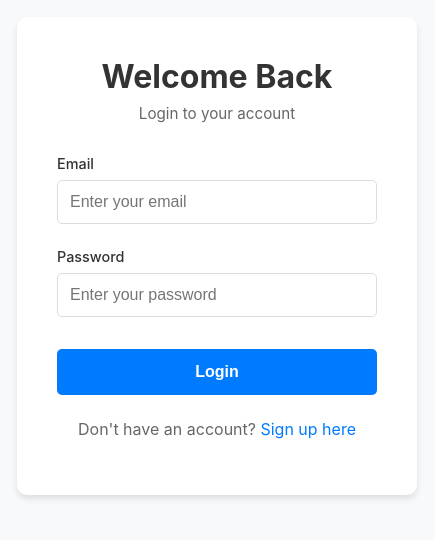
Test case: Login page › shows validation errors on empty submit (role=alert present)
Click the button "Login": [217, 372] box [57,349,377,395]
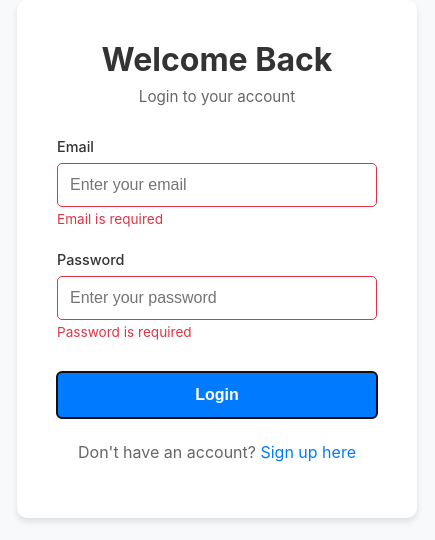
Now the text "Email is required" is shown, box [57,211,163,227]
Now the text "Password is required" is shown, box [57,324,192,340]
